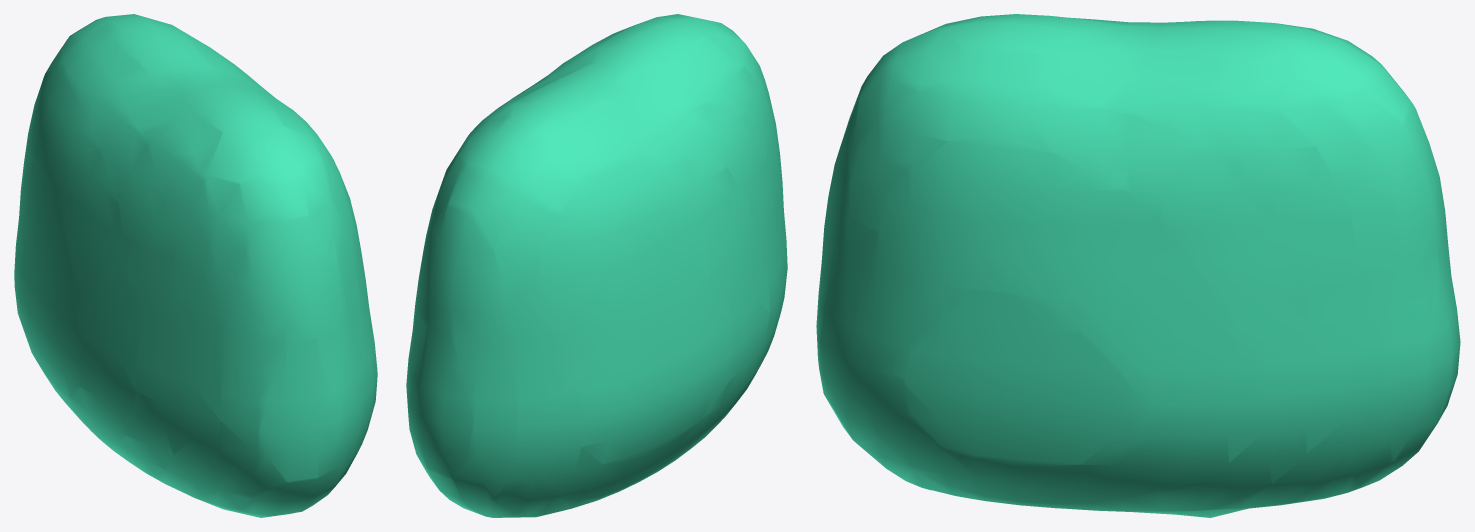
The picture shows the model from 3 angles, left to right: view 1: azimuth 30°, elevation 25°; view 2: azimuth 150°, elevation 25°; view 3: azimuth 270°, elevation 25°; orthographic projection. The views are drawn at different scales.
Visible parts, largest first — view 1: Liquid_Domain; view 2: Liquid_Domain; view 3: Liquid_Domain.
Part boxes in pixels (box(x1,y1,x2,y2)): Liquid_Domain: box(14, 14, 377, 517); Liquid_Domain: box(406, 14, 787, 517); Liquid_Domain: box(816, 14, 1460, 517).
Bounding box in the file's own units: 1.31 × 1.96 × 2.47.
